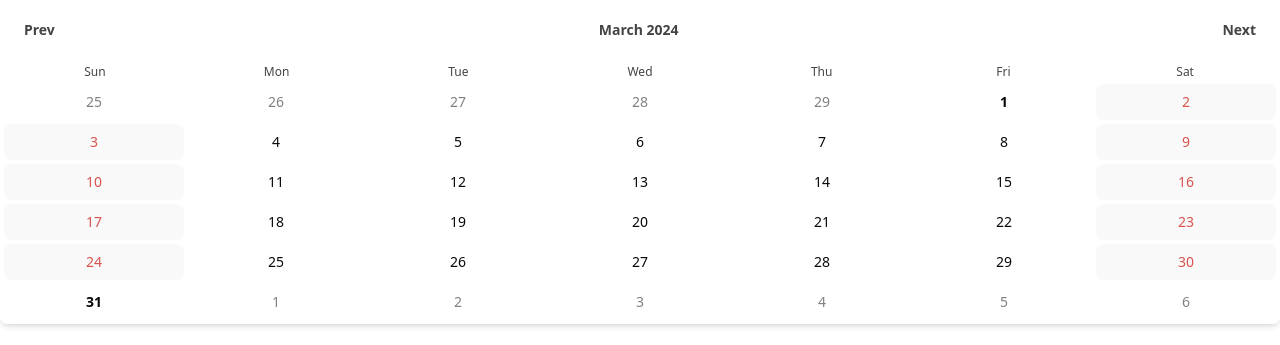
it: Button – navigation › Next then Previous returns to the original month
Click the button with test id "next" at (1239, 30), box [1214, 16, 1264, 44]
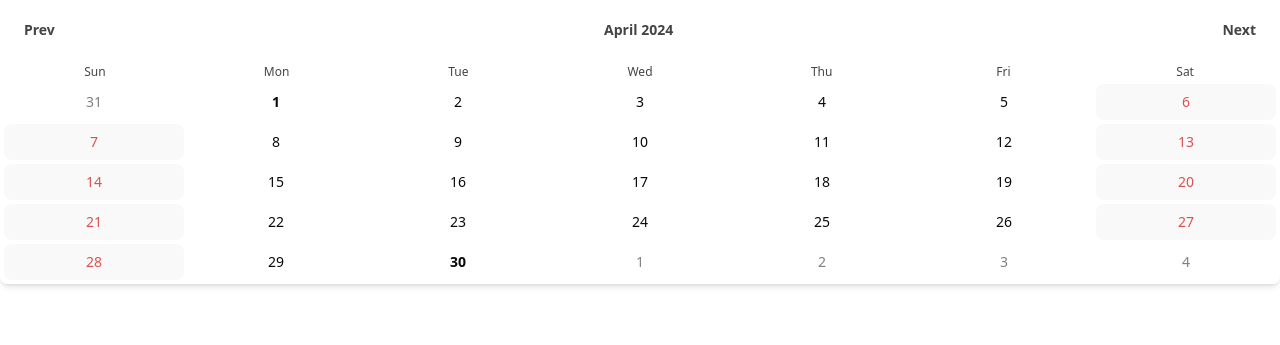
Click the button with test id "prev" at (39, 30), box [16, 16, 63, 44]
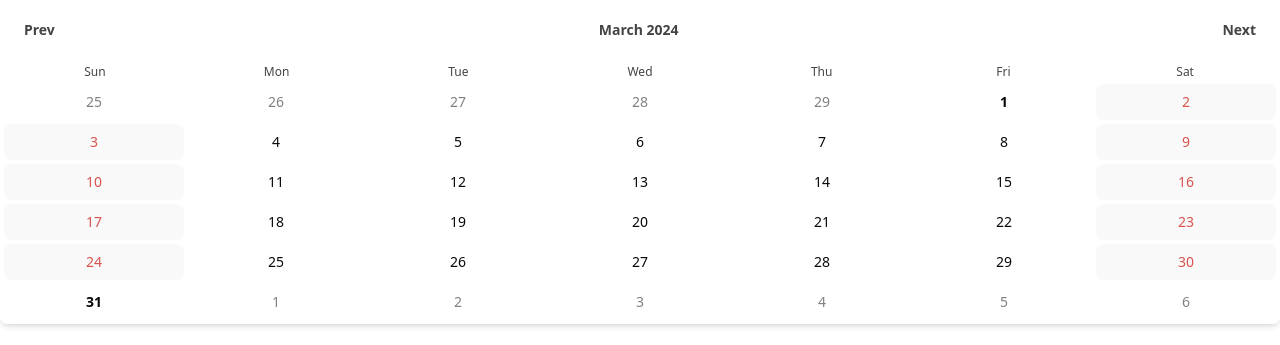
Result: the text "March 2024" is shown at [599, 20, 678, 40]
